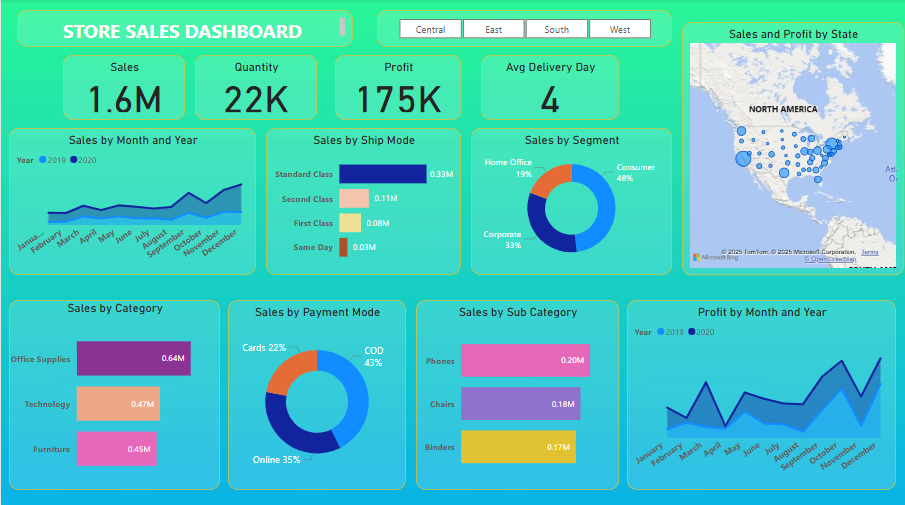

Layout of this report page (visuals, bound fields, positions):
{"tool":"powerbi","page":{"name":"Page 1","canvas":[1280,720],"ordinal":0},"visuals":[{"type":"clusteredBarChart","title":"Sales by Category","fields":{"Category":["Sheet1.Category"],"Y":["Sum(Sheet1.Sales)"]},"box":[11.3,426.6,299.1,269.3],"z":0},{"type":"clusteredBarChart","title":"Sales by Sub Category","fields":{"Category":["Sheet1.Sub-Category"],"Y":["Sum(Sheet1.Sales)"]},"box":[588.2,426.6,287.7,269.3],"z":1000},{"type":"clusteredBarChart","title":"Sales by Ship Mode","fields":{"Y":["Sum(Sheet1.Sales)"],"Category":["Sheet1.Ship Mode"]},"box":[375.6,182.8,276.4,208.3],"z":2000},{"type":"stackedAreaChart","title":"Sales by Month and Year","fields":{"Y":["Sum(Sheet1.Sales)"],"Series":["Sheet1.Order Date.Variation.Date Hierarchy.Year"],"Category":["Sheet1.Order Date.Variation.Date Hierarchy.Month"]},"box":[11.3,182.8,350.1,208.3],"z":3000},{"type":"stackedAreaChart","title":"Profit by Month and Year","fields":{"Series":["Sheet1.Order Date.Variation.Date Hierarchy.Year"],"Category":["Sheet1.Order Date.Variation.Date Hierarchy.Month"],"Y":["Sum(Sheet1.Profit)"]},"box":[887.2,426.6,381.3,269.3],"z":4000},{"type":"map","title":"Sales and Profit by State","fields":{"Category":["Sheet1.State"],"Size":["Sum(Sheet1.Sales)"]},"box":[965.2,32.6,314.6,358.6],"z":5000},{"type":"donutChart","title":"Sales by Segment","fields":{"Y":["Sum(Sheet1.Sales)"],"Category":["Sheet1.Segment"]},"box":[666.1,182.8,284.9,208.3],"z":6000},{"type":"donutChart","title":"Sales by Payment Mode","fields":{"Y":["Sum(Sheet1.Sales)"],"Category":["Sheet1.Payment Mode"]},"box":[321.7,426.6,252.3,269.3],"z":7000},{"type":"slicer","fields":{"Values":["Sheet1.Region"]},"box":[532.9,15.6,418.1,52.4],"z":8000},{"type":"textbox","box":[22.7,15.6,476.2,52.4],"z":9000},{"type":"card","title":"Sales","fields":{"Values":["Sum(Sheet1.Sales)"]},"box":[87.9,79.4,172.9,92.1],"z":10000},{"type":"card","title":"Quantity","fields":{"Values":["Sum(Sheet1.Quantity)"]},"box":[275,79.4,172.9,92.1],"z":11000},{"type":"card","title":"Profit","fields":{"Values":["Sum(Sheet1.Profit)"]},"box":[473.4,79.4,178.6,92.1],"z":12000},{"type":"card","title":"Avg Delivery Day","fields":{"Values":["Avg(Sheet1.AvgDelivery)"]},"box":[680.3,79.4,195.6,92.1],"z":13000}]}

Visuals, with their boxes in screenshot pixels (x1, y1, x2, y2), scaled from the page's 1280x720 canvas onto the 905x505 screenshot:
"Sales by Category" clusteredBarChart: (8,299,219,488)
"Sales by Sub Category" clusteredBarChart: (416,299,619,488)
"Sales by Ship Mode" clusteredBarChart: (266,128,461,274)
"Sales by Month and Year" stackedAreaChart: (8,128,256,274)
"Profit by Month and Year" stackedAreaChart: (627,299,897,488)
"Sales and Profit by State" map: (682,23,904,274)
"Sales by Segment" donutChart: (471,128,672,274)
"Sales by Payment Mode" donutChart: (227,299,406,488)
slicer - Sheet1.Region: (377,11,672,48)
textbox: (16,11,353,48)
"Sales" card: (62,56,184,120)
"Quantity" card: (194,56,317,120)
"Profit" card: (335,56,461,120)
"Avg Delivery Day" card: (481,56,619,120)
